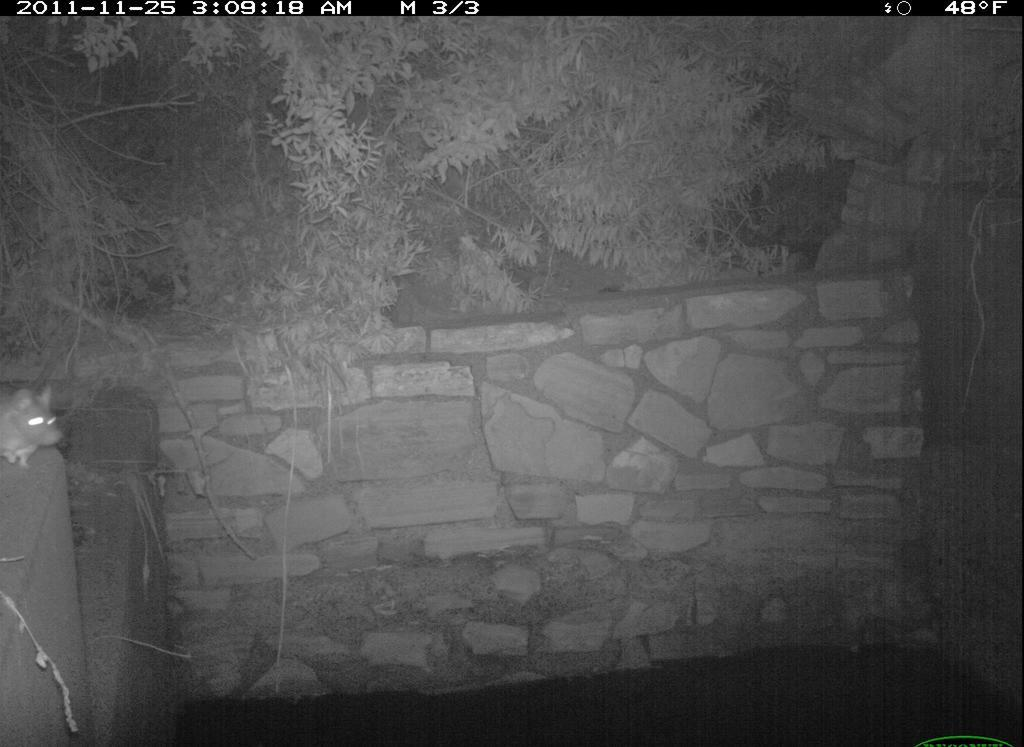rodent: (2, 364, 79, 469)
